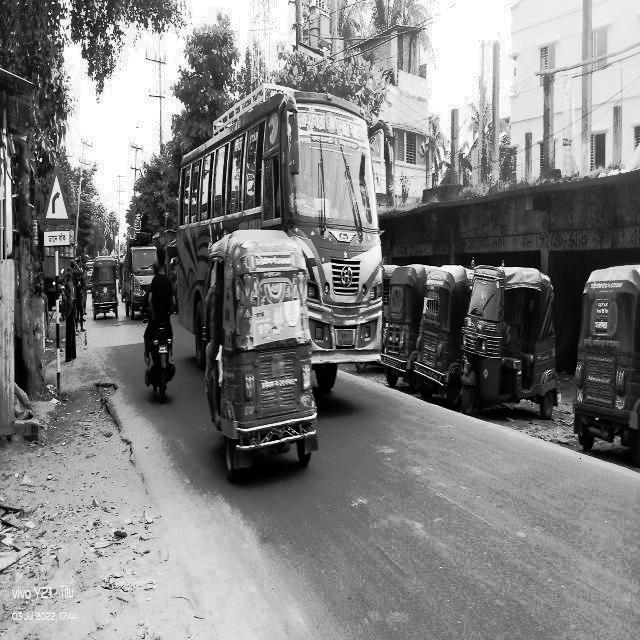Bus: (283, 41, 397, 397)
